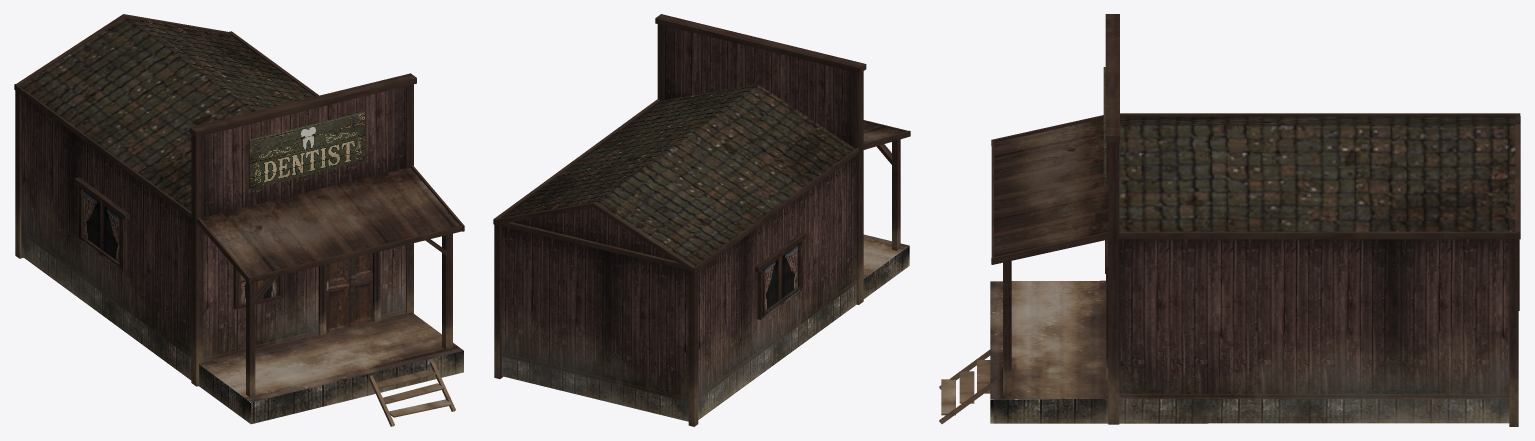
Rendered from DocOffice.fbx.
3 renders of one model, left to right at view 1: azimuth 30°, elevation 25°; view 2: azimuth 150°, elevation 25°; view 3: azimuth 270°, elevation 25°, orthographic. The views are drawn at different scales.
Parts seen in each view (by area): view 1: DantistHouse; view 2: DantistHouse; view 3: DantistHouse.
Boxes of the visible parts, x1=… form: DantistHouse: x1=14, y1=14, x2=464, y2=426; DantistHouse: x1=493, y1=14, x2=910, y2=426; DantistHouse: x1=939, y1=14, x2=1520, y2=426.
Bounding box in the file's own units: 4.72 × 5.48 × 9.38.
Materials: 1 (1 with a texture image).
